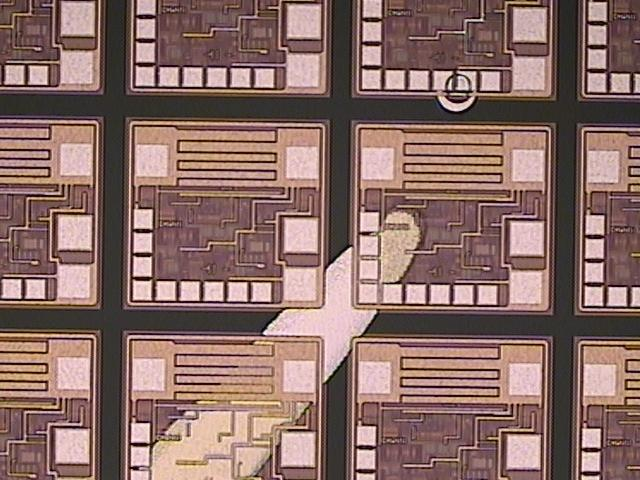BLOCK ETCH: (136, 206, 424, 480)
